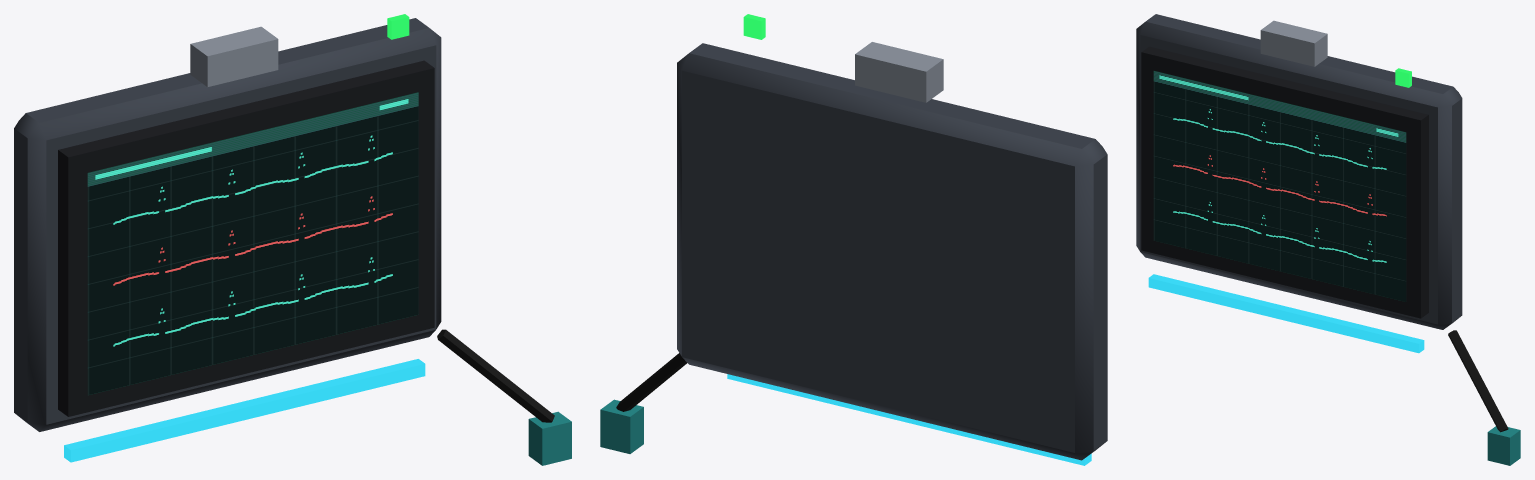
The model's file is medsupply_wall_patient_monitor.glb.
3 renders of one model, left to right at view 1: azimuth 30°, elevation 25°; view 2: azimuth 150°, elevation 25°; view 3: azimuth 330°, elevation 25°, orthographic. The views are drawn at different scales.
Parts seen in each view (by area): view 1: medsupply_wall_patient_monitor; view 2: medsupply_wall_patient_monitor; view 3: medsupply_wall_patient_monitor.
Part boxes in pixels (x1,y1,x2,y2): medsupply_wall_patient_monitor: (14, 14, 571, 465); medsupply_wall_patient_monitor: (600, 14, 1107, 465); medsupply_wall_patient_monitor: (1136, 14, 1520, 465).
Size of the model in its own units: 0.875 by 0.765 by 0.14.
8 materials, 1 textured.
